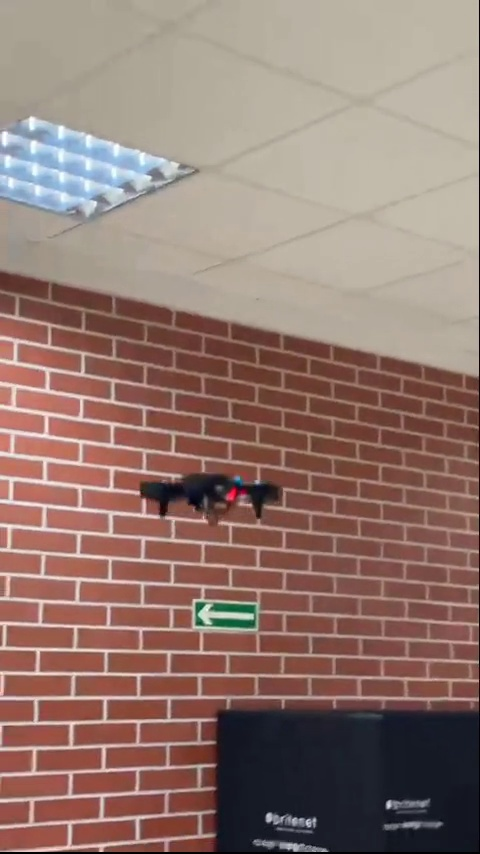drone: (127, 465, 300, 526)
